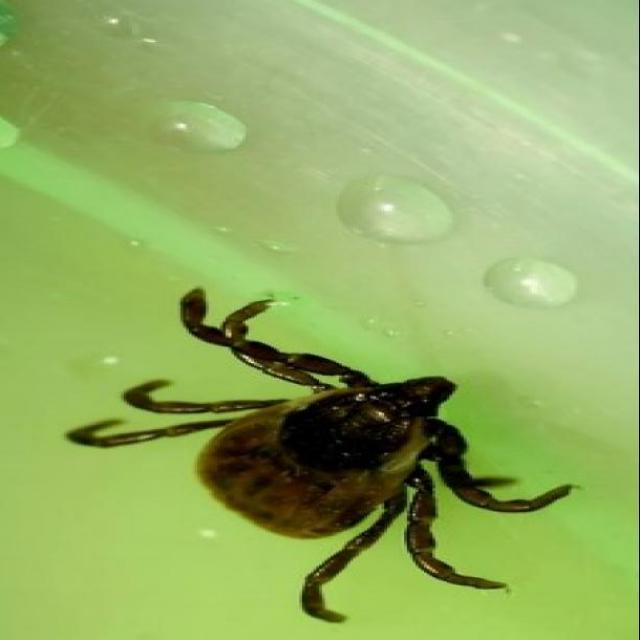Rhipicephalus Sanguineus-F: (65, 288, 575, 626)
